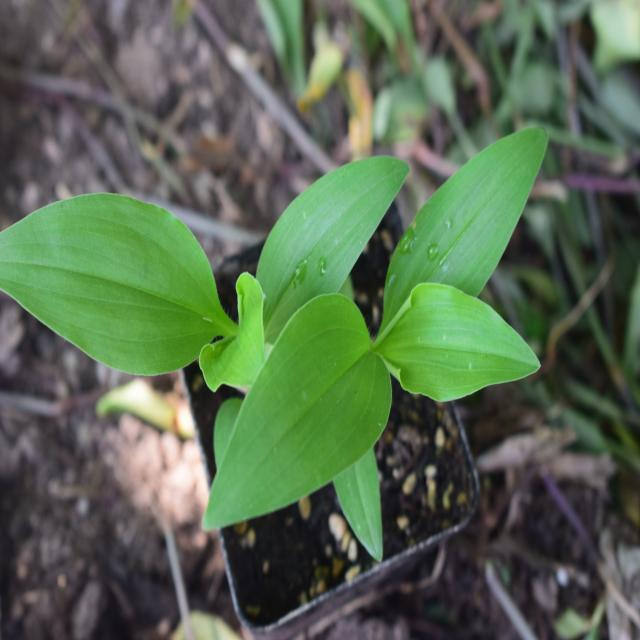Common Dayflower: (210, 114, 574, 542), (7, 174, 209, 407)
